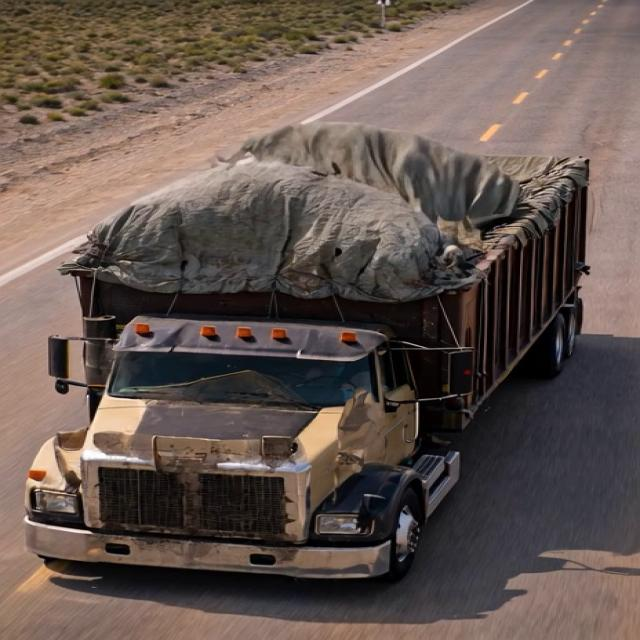Box: (56, 117, 588, 298)
Truck: (20, 92, 616, 576)
